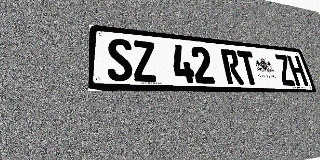2: (190, 46, 215, 84)
4: (170, 44, 196, 83)
H: (287, 55, 309, 86)
R: (220, 49, 244, 84)
S: (107, 38, 133, 82)
T: (237, 50, 260, 85)
Z: (132, 40, 158, 82), (274, 54, 296, 86)
